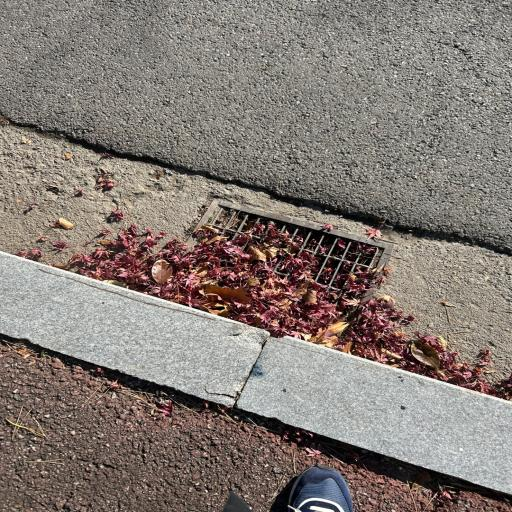debris: (344, 265, 371, 292), (218, 212, 241, 229), (324, 267, 332, 277), (338, 240, 343, 246), (319, 247, 326, 251), (336, 274, 340, 280), (366, 247, 370, 252)
drain: (172, 211, 380, 342)
